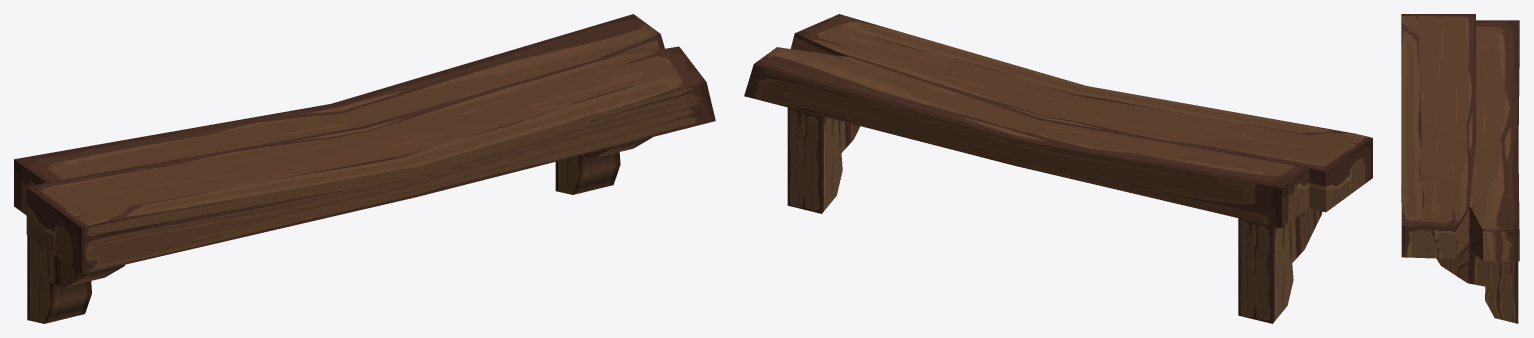
File: SM_PROP_shelf_interior_01.fbx
3 views of the same model, side by side, from view 1: azimuth 30°, elevation 25°; view 2: azimuth 150°, elevation 25°; view 3: azimuth 270°, elevation 25° (orthographic). The views are drawn at different scales.
Parts seen in each view (by area): view 1: SM_PROP_shelf_interior_01; view 2: SM_PROP_shelf_interior_01; view 3: SM_PROP_shelf_interior_01.
Boxes of the visible parts, x1=… form: SM_PROP_shelf_interior_01: x1=14, y1=14, x2=715, y2=323; SM_PROP_shelf_interior_01: x1=744, y1=14, x2=1372, y2=323; SM_PROP_shelf_interior_01: x1=1401, y1=14, x2=1519, y2=323.
Size of the model in its own units: 151 by 36.05 by 34.9.
